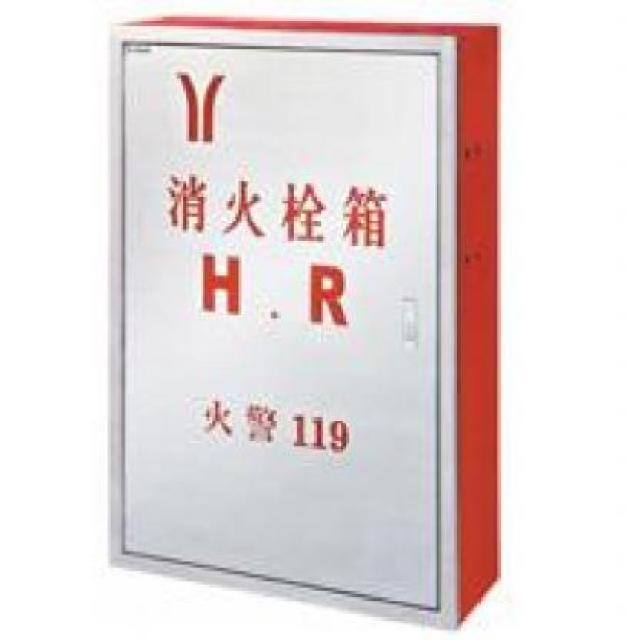firehydrant: (106, 10, 508, 638)
